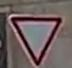cedencia de passagem: (6, 13, 65, 68)
